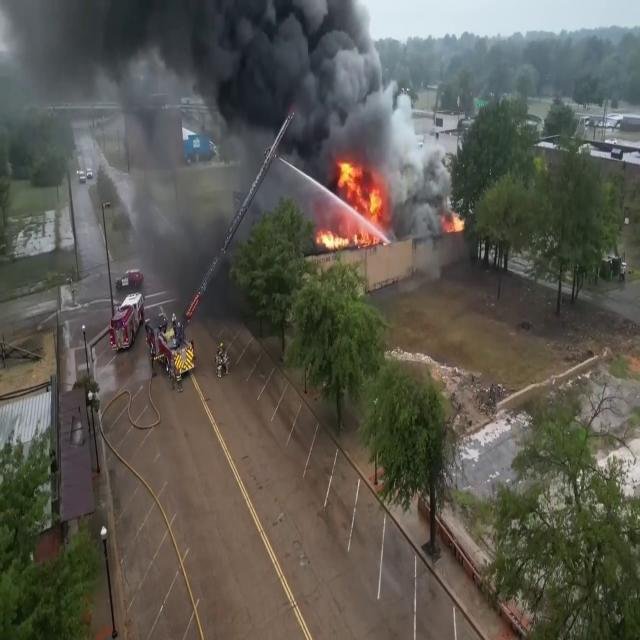Fire: (318, 153, 390, 251), (442, 205, 466, 238)
Smoke: (1, 0, 427, 248)
